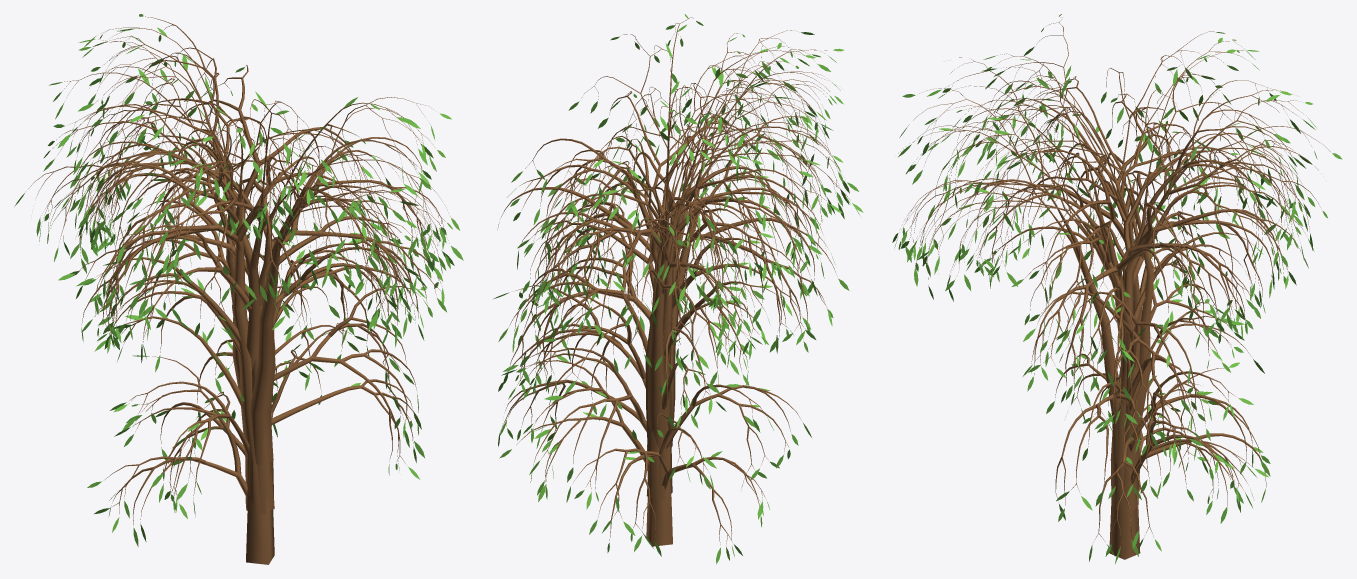
File: willowwwtreeLeaves.glb
3 views of the same model, side by side, from view 1: azimuth 30°, elevation 25°; view 2: azimuth 150°, elevation 25°; view 3: azimuth 270°, elevation 25° (orthographic). The views are drawn at different scales.
Visible parts, largest first — view 1: tree, leaves; view 2: tree, leaves; view 3: tree, leaves.
Boxes of the visible parts, x1,y1,x2,y2 form: tree: (28, 16, 450, 564); leaves: (14, 14, 463, 546); tree: (500, 17, 849, 546); leaves: (493, 14, 863, 564); tree: (902, 17, 1330, 559); leaves: (892, 14, 1342, 563).
Size of the model in its own units: 13.93 by 18.79 by 16.14.
